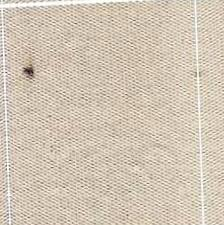stain: (17, 58, 39, 83)
